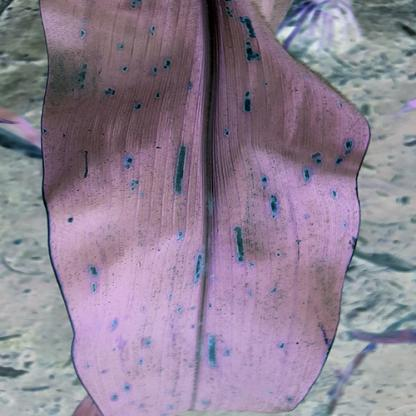corn leaf blight: (36, 1, 365, 416)
